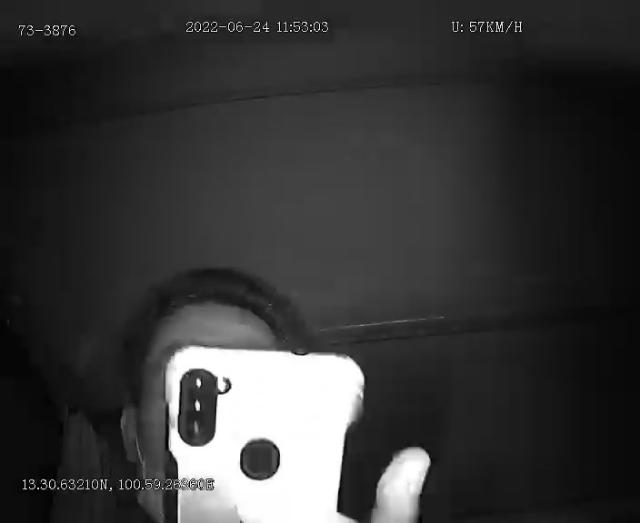Phone: (151, 338, 371, 523)
